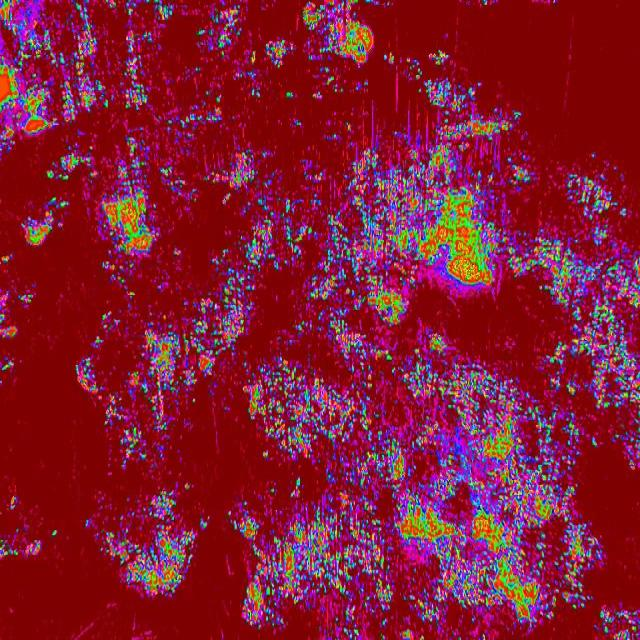fire: (243, 336, 601, 640), (250, 106, 540, 336), (0, 0, 392, 154), (78, 158, 187, 482), (540, 163, 640, 473), (185, 158, 252, 408), (80, 482, 212, 602), (392, 44, 489, 105), (0, 256, 33, 382), (0, 496, 44, 566), (601, 599, 640, 640), (22, 204, 58, 245), (43, 154, 78, 188)
